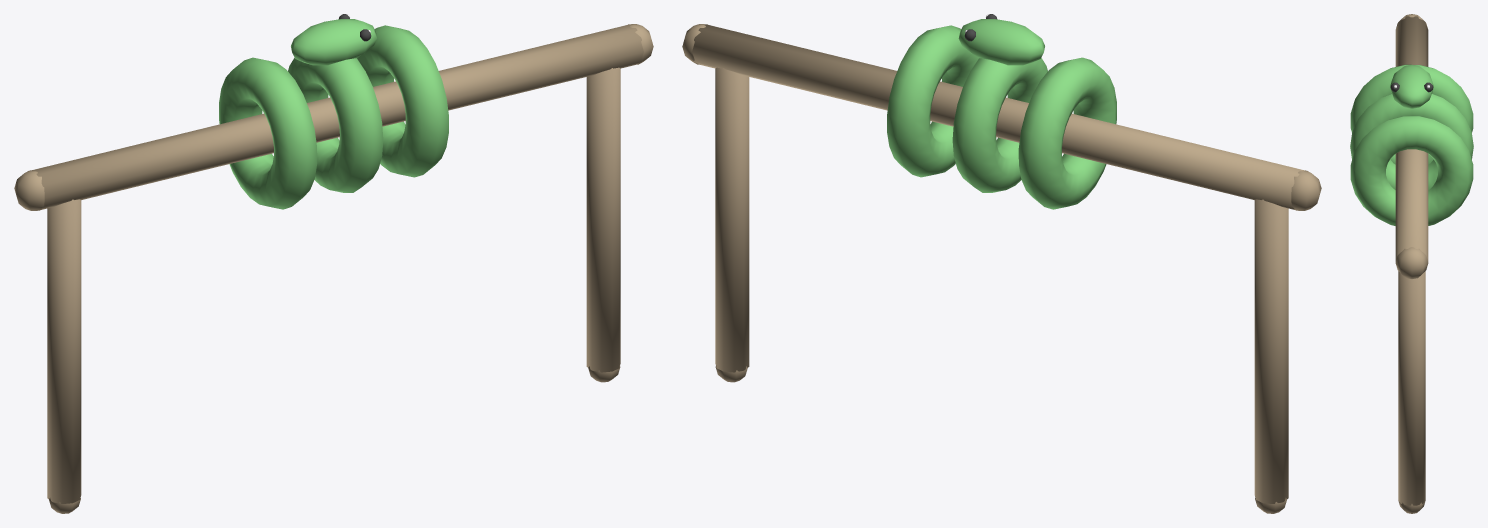
File: green-tree-python.glb
The picture shows the model from 3 angles, left to right: view 1: azimuth 30°, elevation 25°; view 2: azimuth 150°, elevation 25°; view 3: azimuth 270°, elevation 25°; orthographic projection. The views are drawn at different scales.
Parts seen in each view (by area): view 1: e.005, e; view 2: e.005, e; view 3: e.005, e.
Boxes of the visible parts, x1=… form: e.005: x1=14, y1=24, x2=653, y2=513; e: x1=291, y1=14, x2=377, y2=65; e.005: x1=682, y1=24, x2=1321, y2=513; e: x1=958, y1=14, x2=1044, y2=65; e.005: x1=1350, y1=14, x2=1473, y2=513; e: x1=1390, y1=65, x2=1433, y2=108.
Size of the model in its own units: 2.12 by 1.35 by 0.45.
